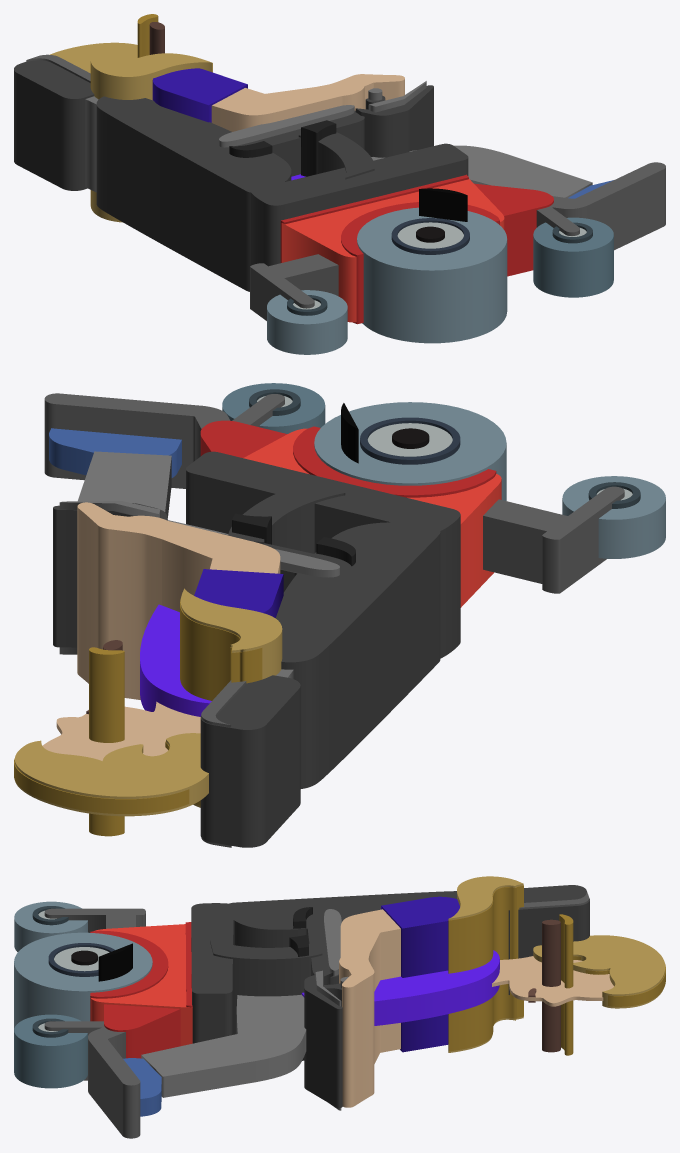
The model's file is emoji_u1f469_1f3fc_200d_1f9bc_200d_27a1.glb.
3 views of the same model, one above another, from view 1: azimuth 30°, elevation 25°; view 2: azimuth 150°, elevation 25°; view 3: azimuth 270°, elevation 25° (orthographic). The views are drawn at different scales.
Visible parts, largest first — view 1: emoji_u1f469_1f3fc_200d_1f9bc_200d_27a1; view 2: emoji_u1f469_1f3fc_200d_1f9bc_200d_27a1; view 3: emoji_u1f469_1f3fc_200d_1f9bc_200d_27a1.
Part boxes in pixels (left/top/right/bottom): emoji_u1f469_1f3fc_200d_1f9bc_200d_27a1: left=14, top=14, right=665, bottom=354; emoji_u1f469_1f3fc_200d_1f9bc_200d_27a1: left=14, top=383, right=665, bottom=847; emoji_u1f469_1f3fc_200d_1f9bc_200d_27a1: left=14, top=876, right=665, bottom=1138.
Bounding box in the file's own units: 0.0238 × 0.0076 × 0.0334.
